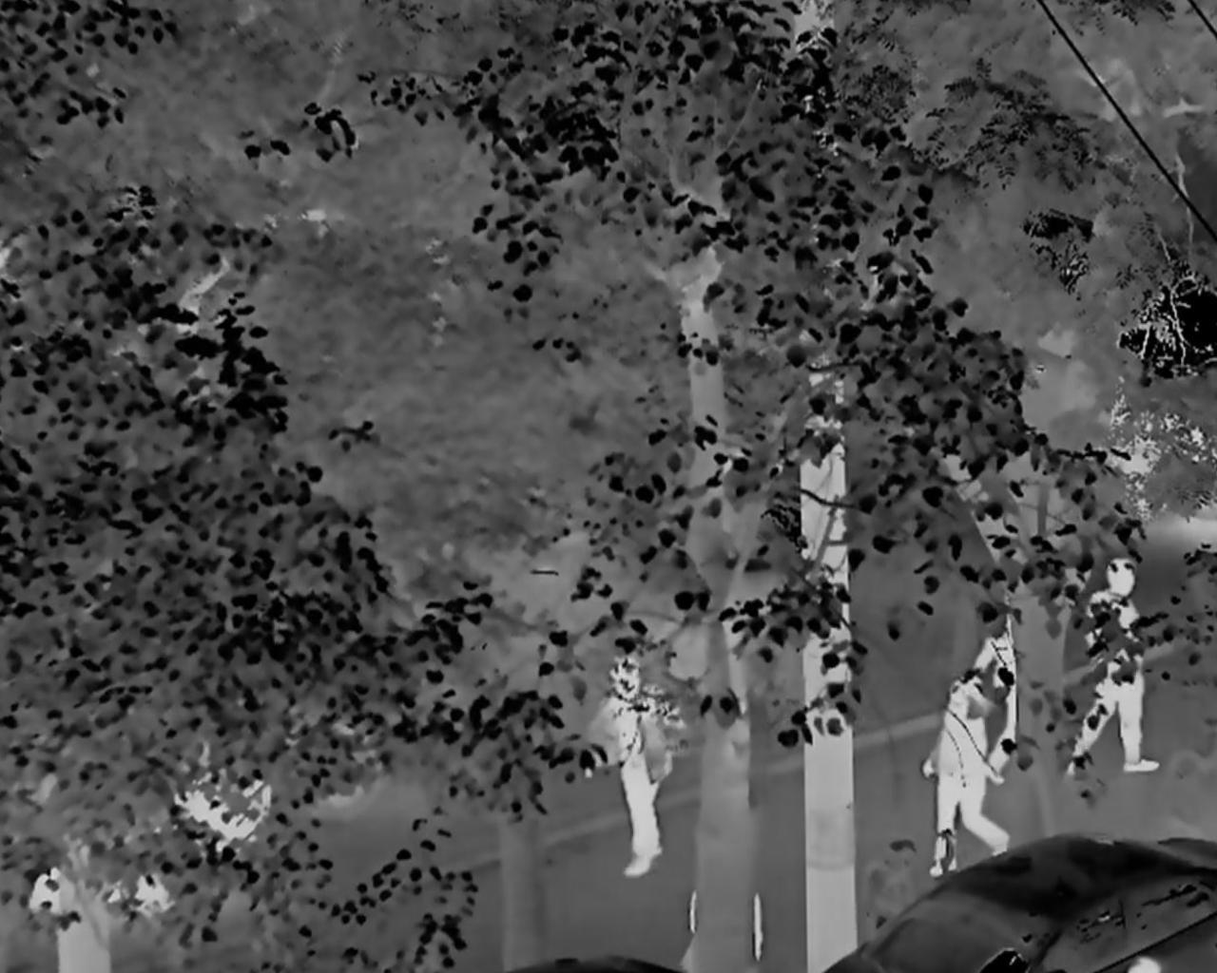person: (582, 650, 676, 883), (920, 675, 1012, 883), (1079, 554, 1159, 781)
